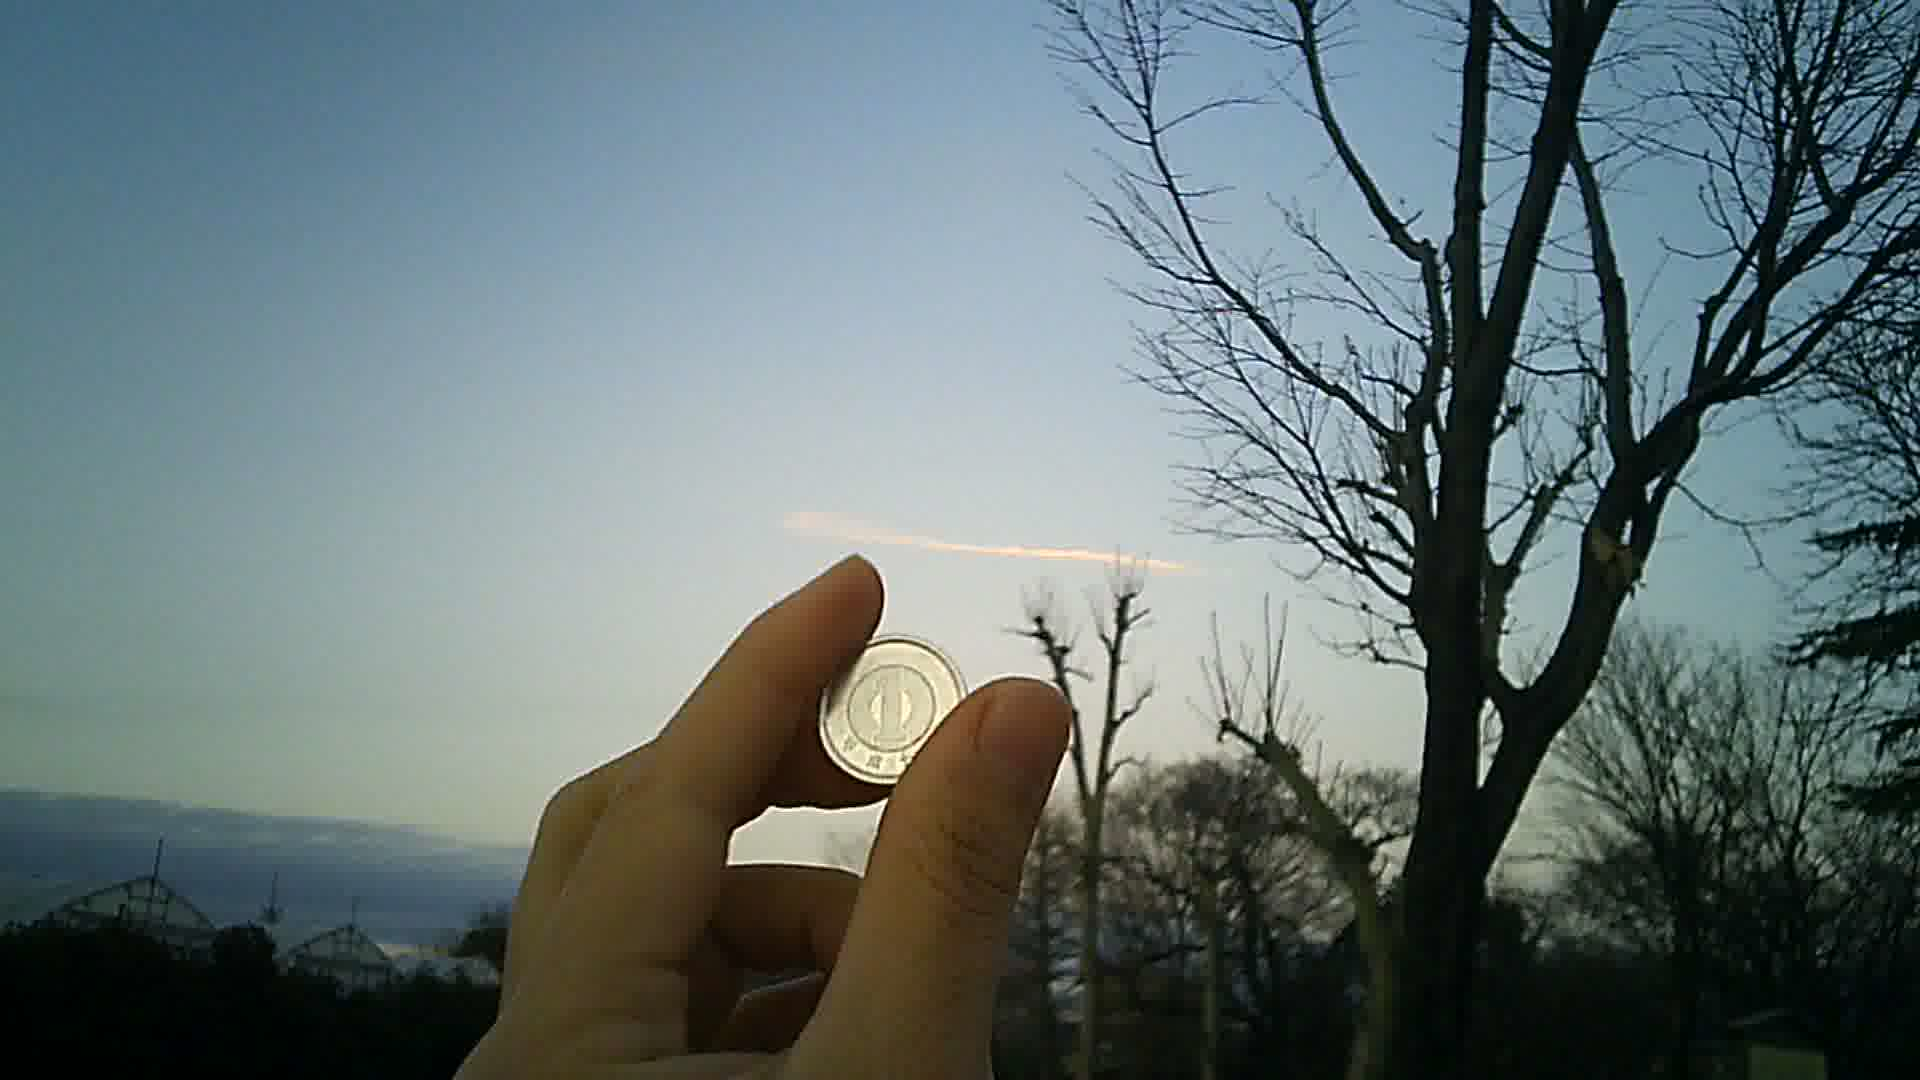1 Yen: (796, 620, 981, 793)
